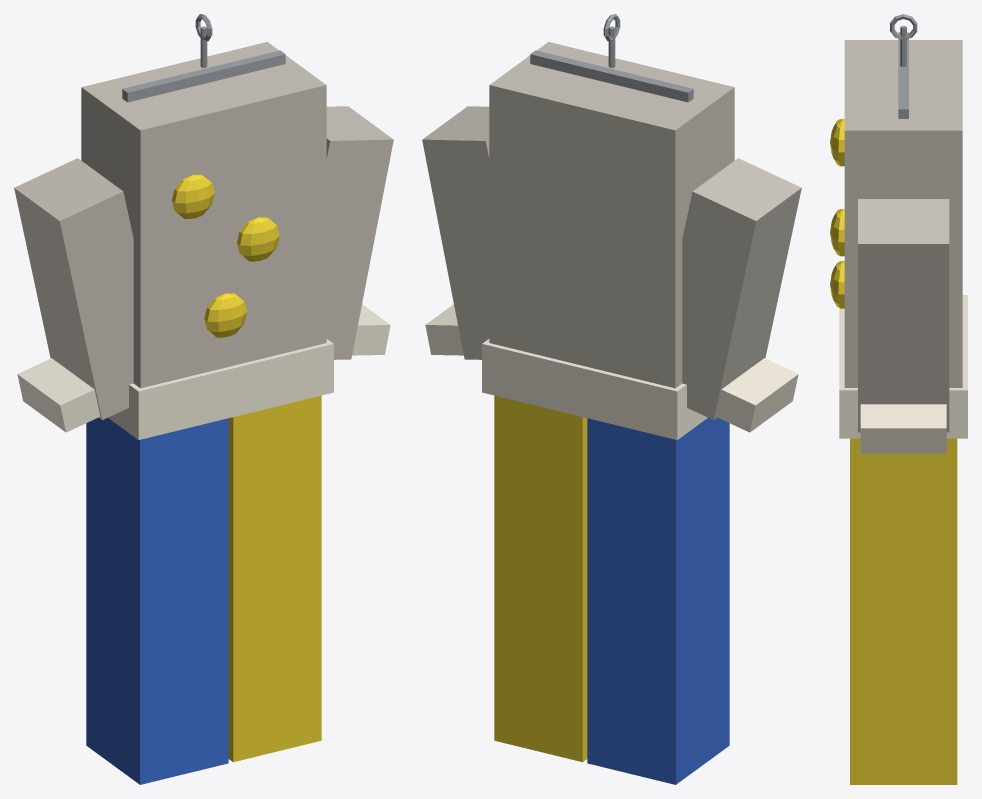
File: hero_costume_clown.glb
The picture shows the model from 3 angles, left to right: view 1: azimuth 30°, elevation 25°; view 2: azimuth 150°, elevation 25°; view 3: azimuth 270°, elevation 25°; orthographic projection.
Parts seen in each view (by area): view 1: hero_costume_clown; view 2: hero_costume_clown; view 3: hero_costume_clown.
Part boxes in pixels (x1,y1,x2,y2): hero_costume_clown: (14,14,393,784); hero_costume_clown: (422,14,801,784); hero_costume_clown: (830,14,967,784).
Size of the model in its own units: 0.7184 by 1.5 by 0.2575.
